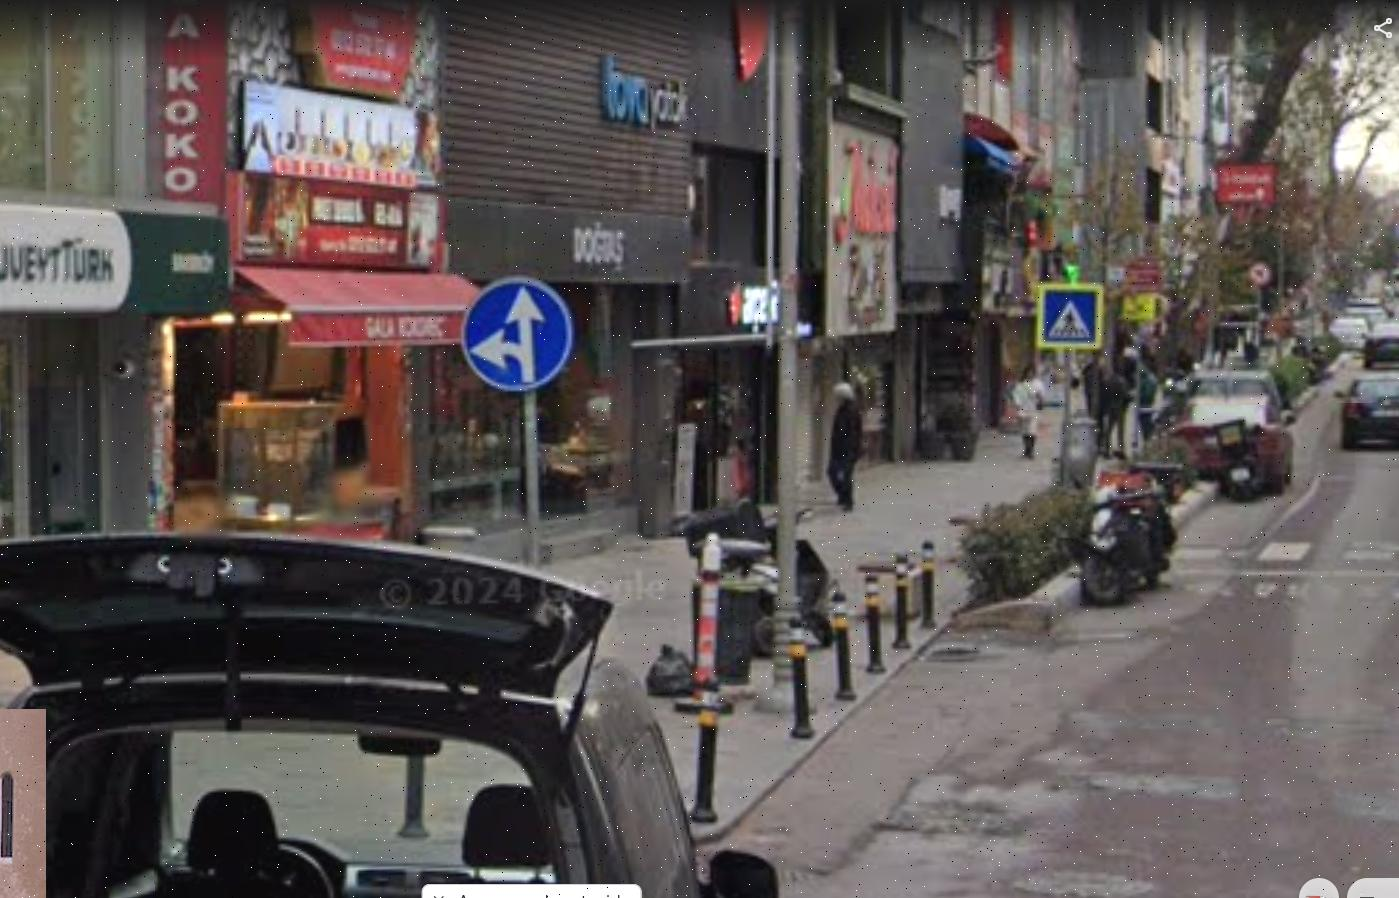leftturnsareforbidden: (1249, 262, 1272, 286)
